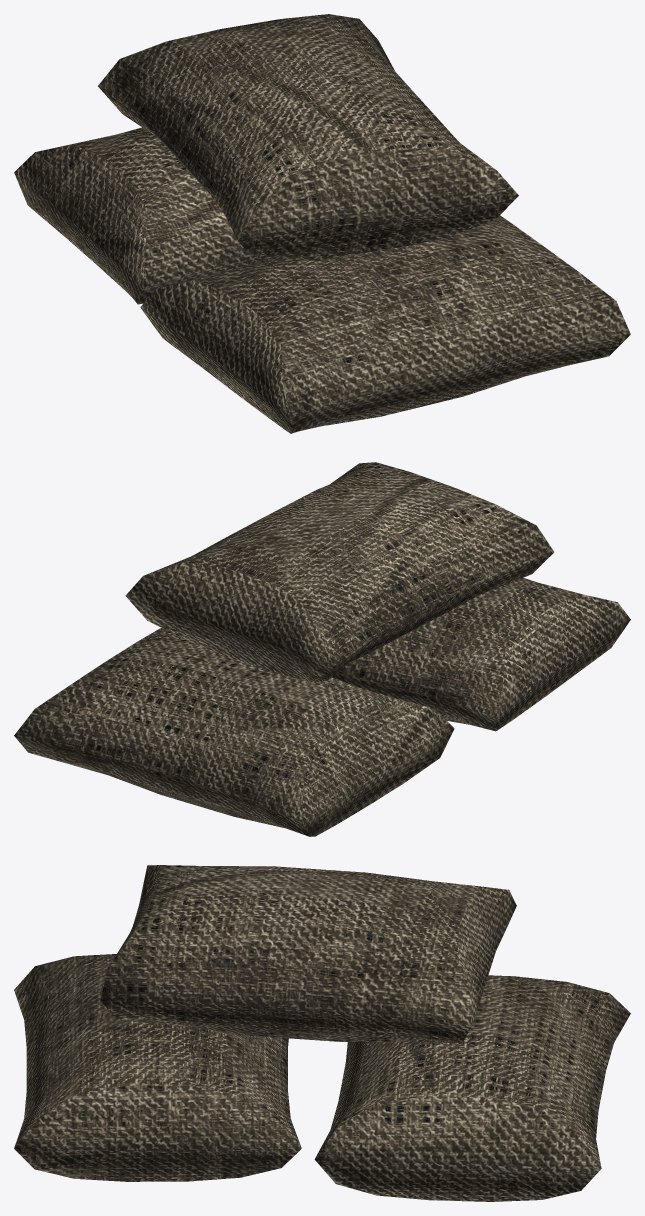
Rendered from Sack_2.FBX.
The picture shows the model from 3 angles, top to bottom: view 1: azimuth 30°, elevation 25°; view 2: azimuth 150°, elevation 25°; view 3: azimuth 270°, elevation 25°; orthographic projection. The views are drawn at different scales.
Visible parts, largest first — view 1: Mesh; view 2: Mesh; view 3: Mesh.
Boxes of the visible parts, x1=… form: Mesh: x1=14, y1=14, x2=630, y2=433; Mesh: x1=14, y1=462, x2=630, y2=836; Mesh: x1=14, y1=865, x2=630, y2=1201.
Size of the model in its own units: 90.82 by 132 by 59.74.
